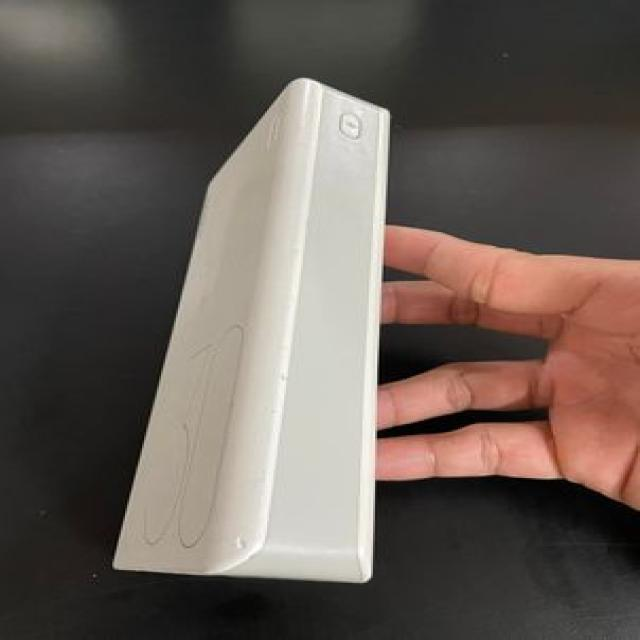power_bank: (102, 74, 416, 586)
